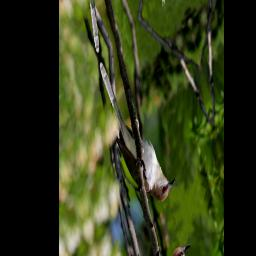Cuckoo: (98, 21, 179, 231)
